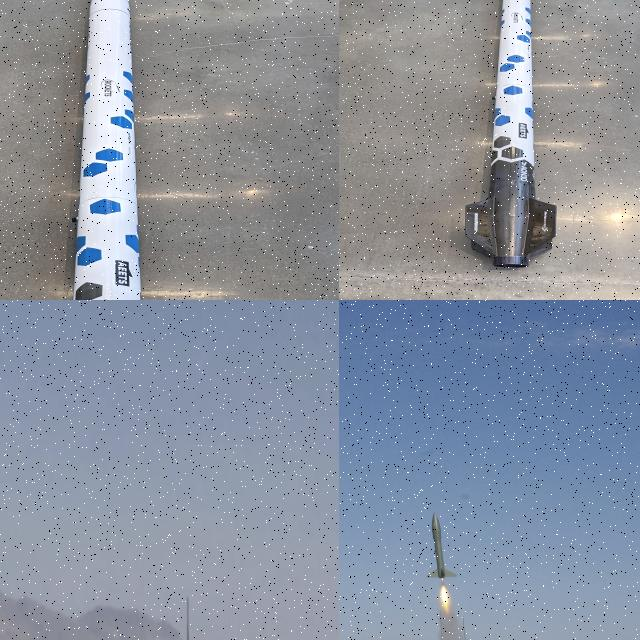Rocket: (465, 0, 557, 269), (72, 0, 142, 300), (426, 512, 458, 579)
